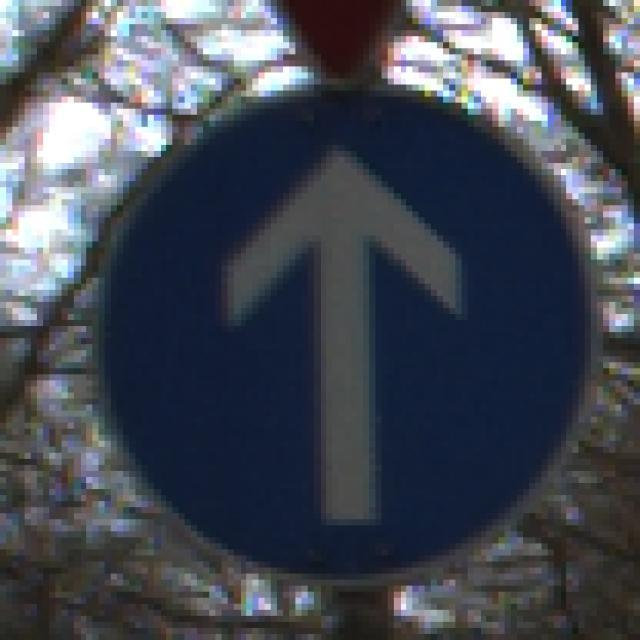compulsary ahead: (91, 80, 604, 585)
